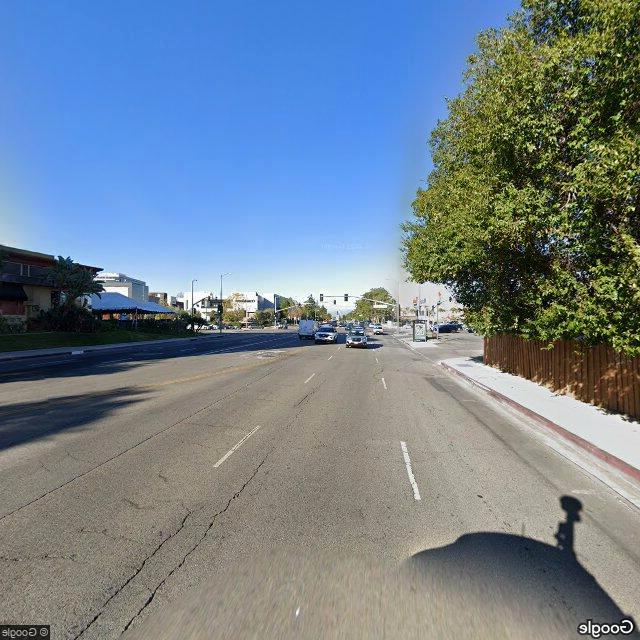pothole: (119, 419, 299, 636), (74, 492, 201, 638)
